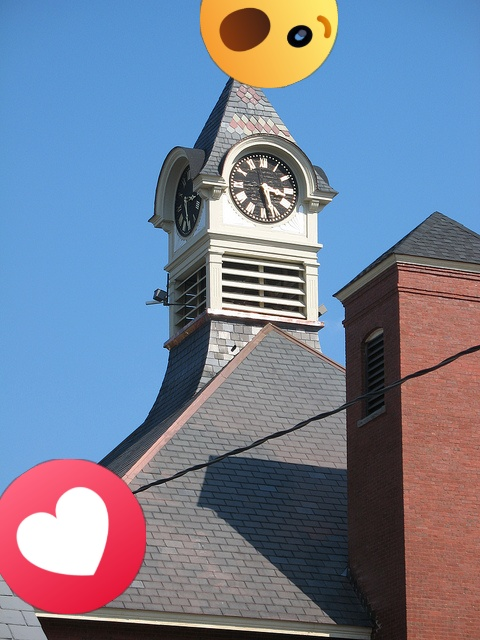love: (0, 459, 146, 614)
wow: (200, 0, 338, 88)
